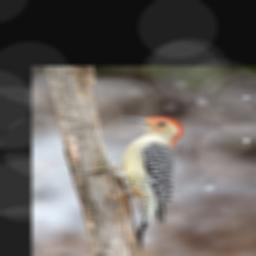Woodpecker: (81, 116, 183, 248)
